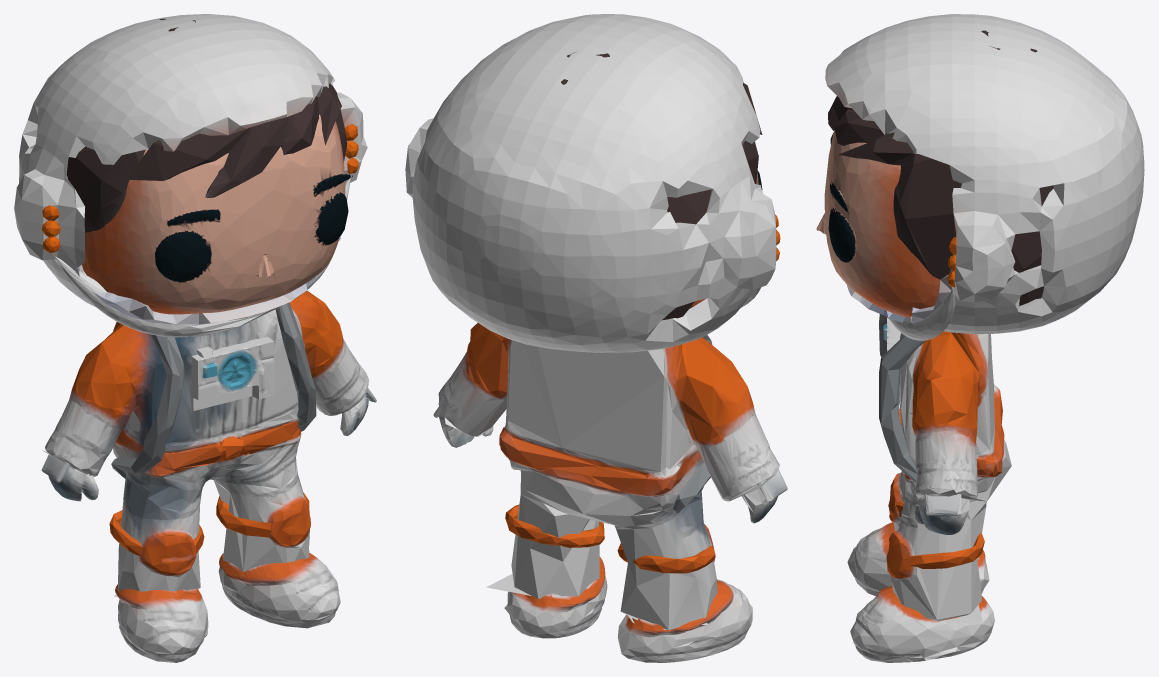
The model's file is Astronaut.glb.
3 renders of one model, left to right at view 1: azimuth 30°, elevation 25°; view 2: azimuth 150°, elevation 25°; view 3: azimuth 270°, elevation 25°, orthographic. The views are drawn at different scales.
Visible parts, largest first — view 1: Body; view 2: Body; view 3: Body.
Part boxes in pixels (x1=…): Body: x1=14, y1=14, x2=376, y2=662; Body: x1=405, y1=14, x2=787, y2=662; Body: x1=816, y1=14, x2=1144, y2=662.
Size of the model in its own units: 6.64 by 10.69 by 5.47.
